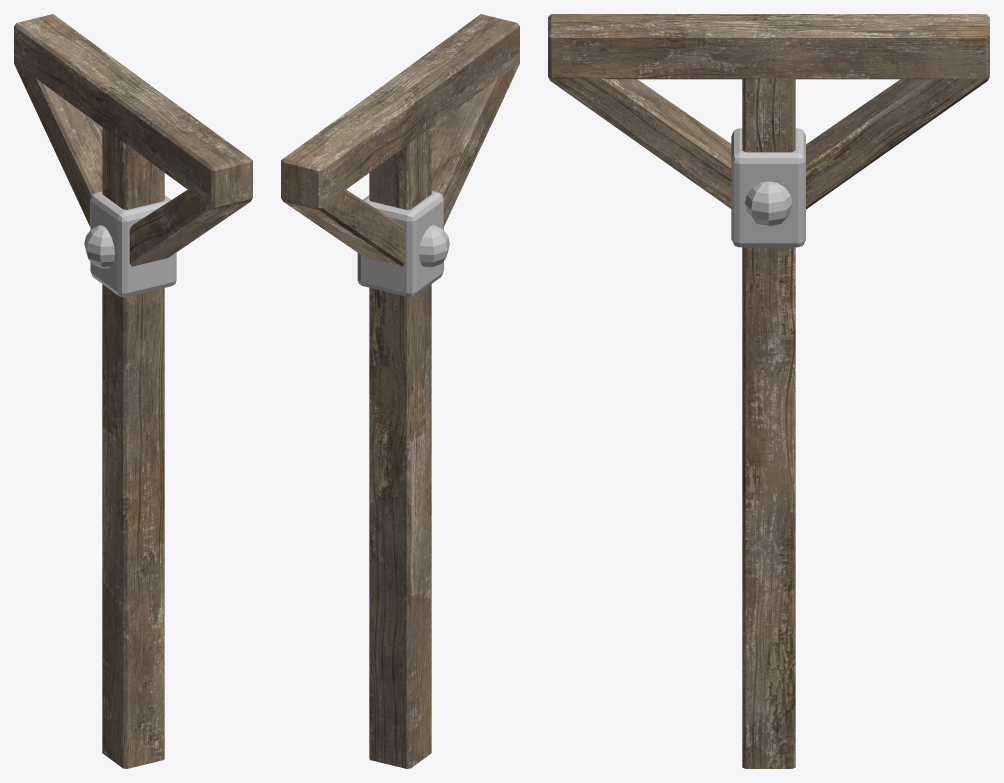
The model's file is SM_Beam_B_08.fbx.
3 renders of one model, left to right at view 1: azimuth 30°, elevation 25°; view 2: azimuth 150°, elevation 25°; view 3: azimuth 270°, elevation 25°, orthographic. The views are drawn at different scales.
Parts seen in each view (by area): view 1: SM_Beam_B_08_LOD0; view 2: SM_Beam_B_08_LOD0; view 3: SM_Beam_B_08_LOD0.
Part boxes in pixels (x1,y1,x2,y2): SM_Beam_B_08_LOD0: (14,14,252,768); SM_Beam_B_08_LOD0: (281,14,519,768); SM_Beam_B_08_LOD0: (548,14,989,768).
Size of the model in its own units: 59.02 by 218 by 400.
